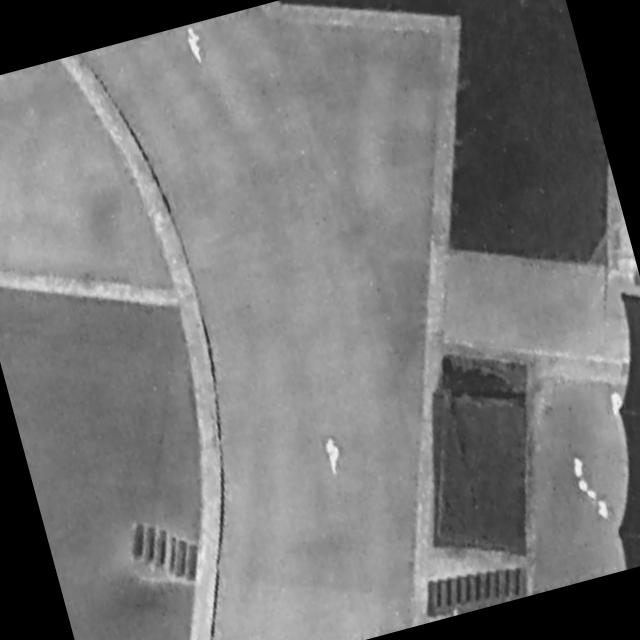person: (318, 432, 346, 478), (183, 24, 209, 68)
